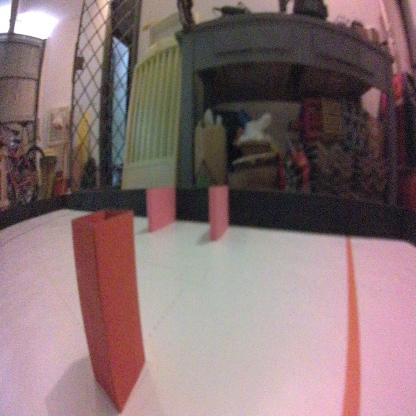magenta: (205, 177, 233, 247), (144, 185, 178, 233)
red: (68, 202, 148, 416)
